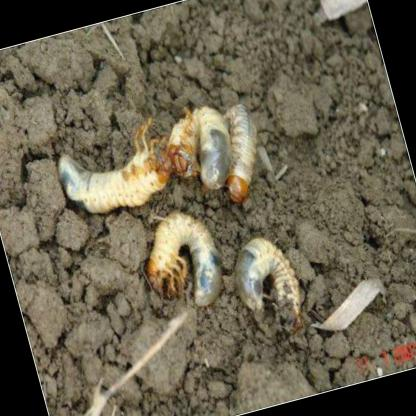root grubs: (147, 209, 222, 305), (235, 233, 303, 320)
